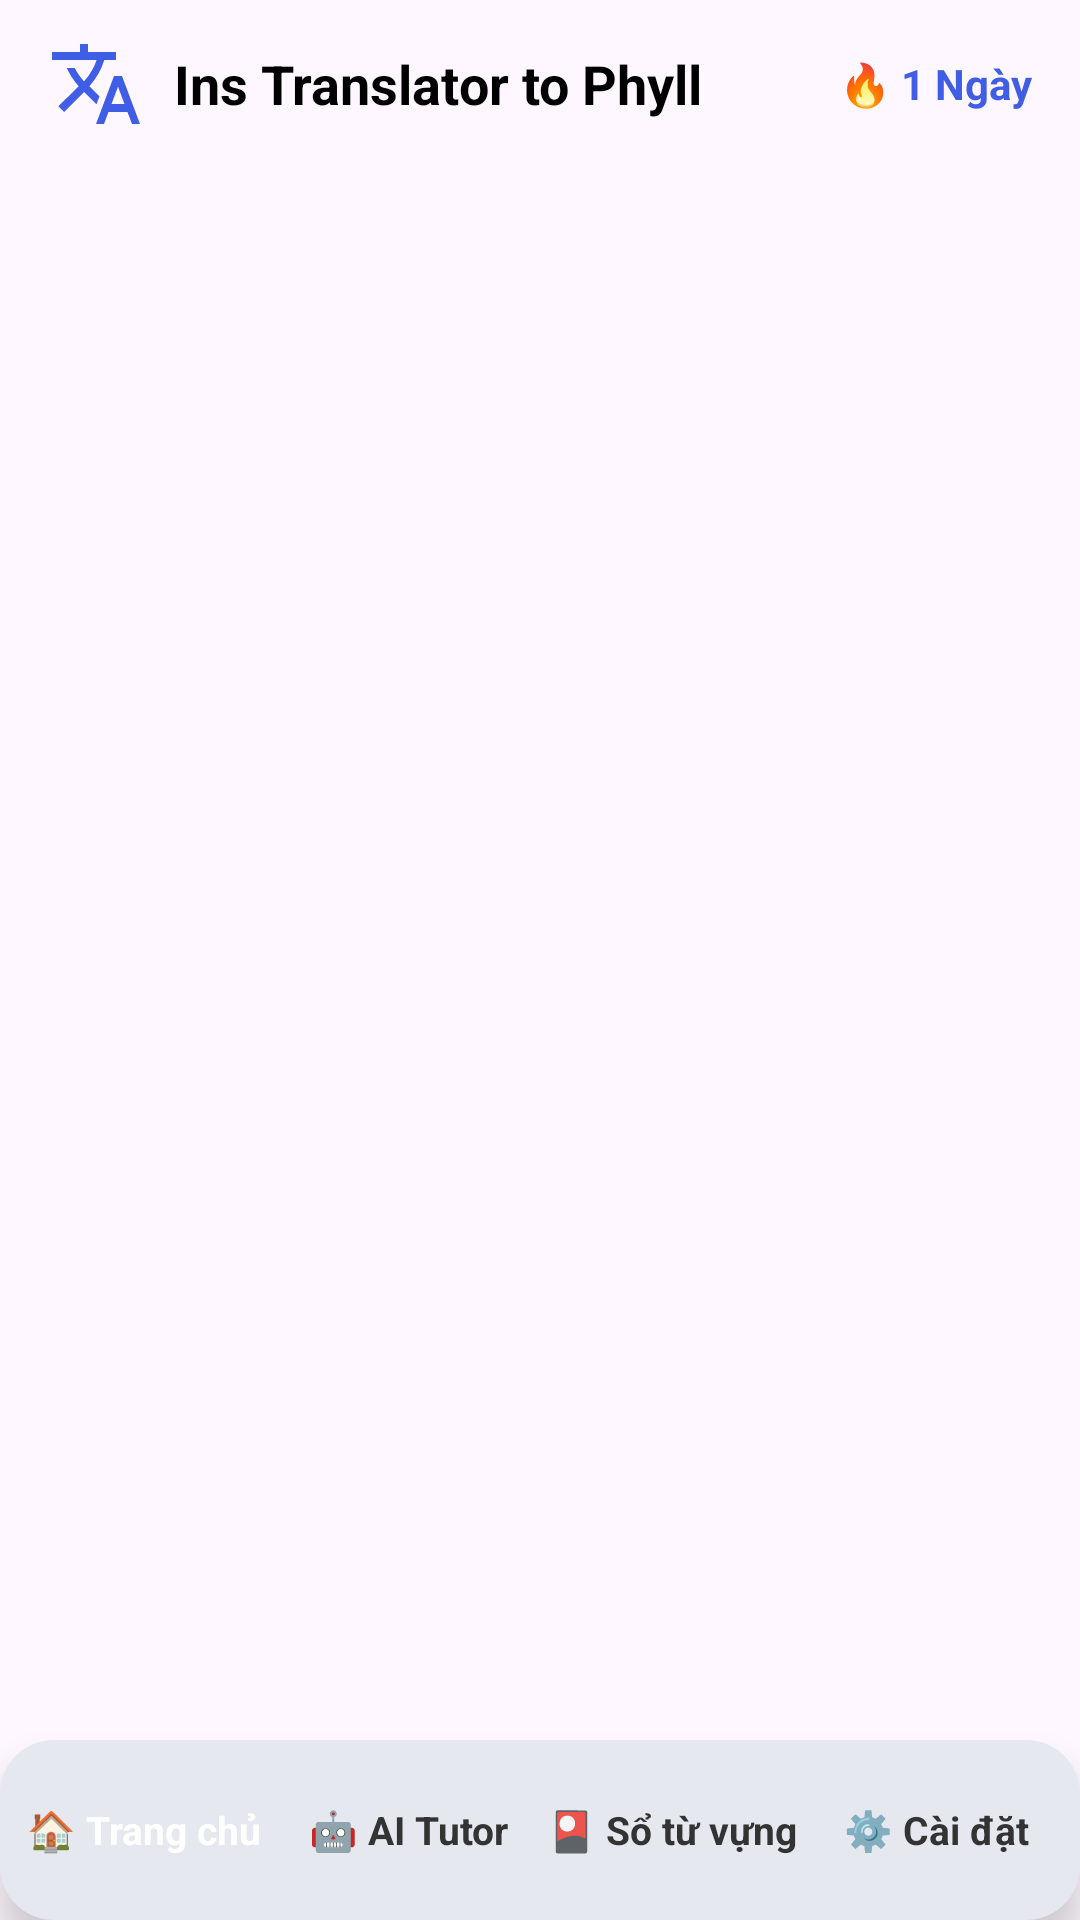

Point at icon controls on the screen. Image size 1080*1920, points as (x,y).
translate: (96,84)
